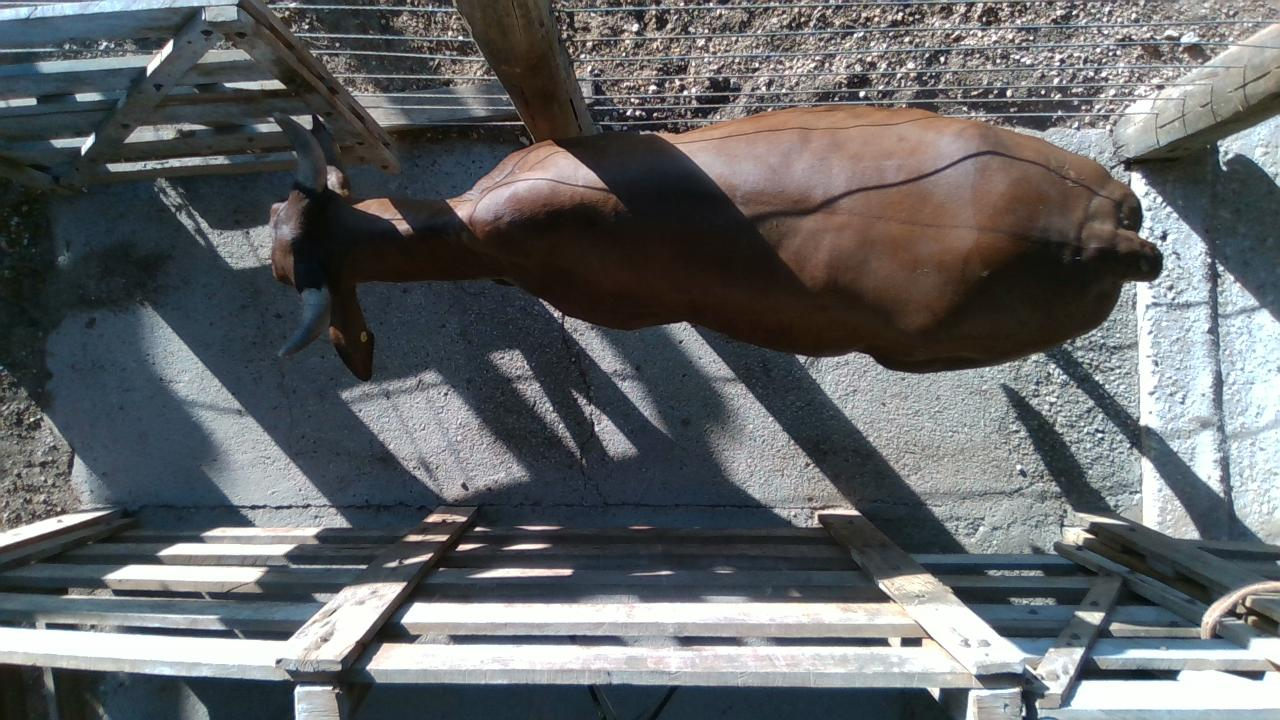cattle: (267, 102, 1163, 381)
